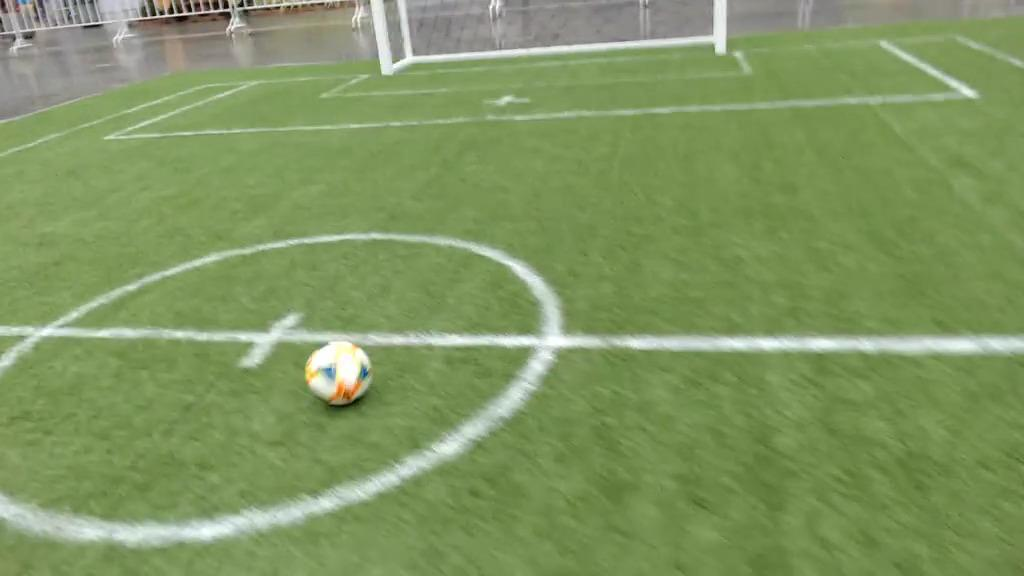ball: (306, 340, 371, 408)
